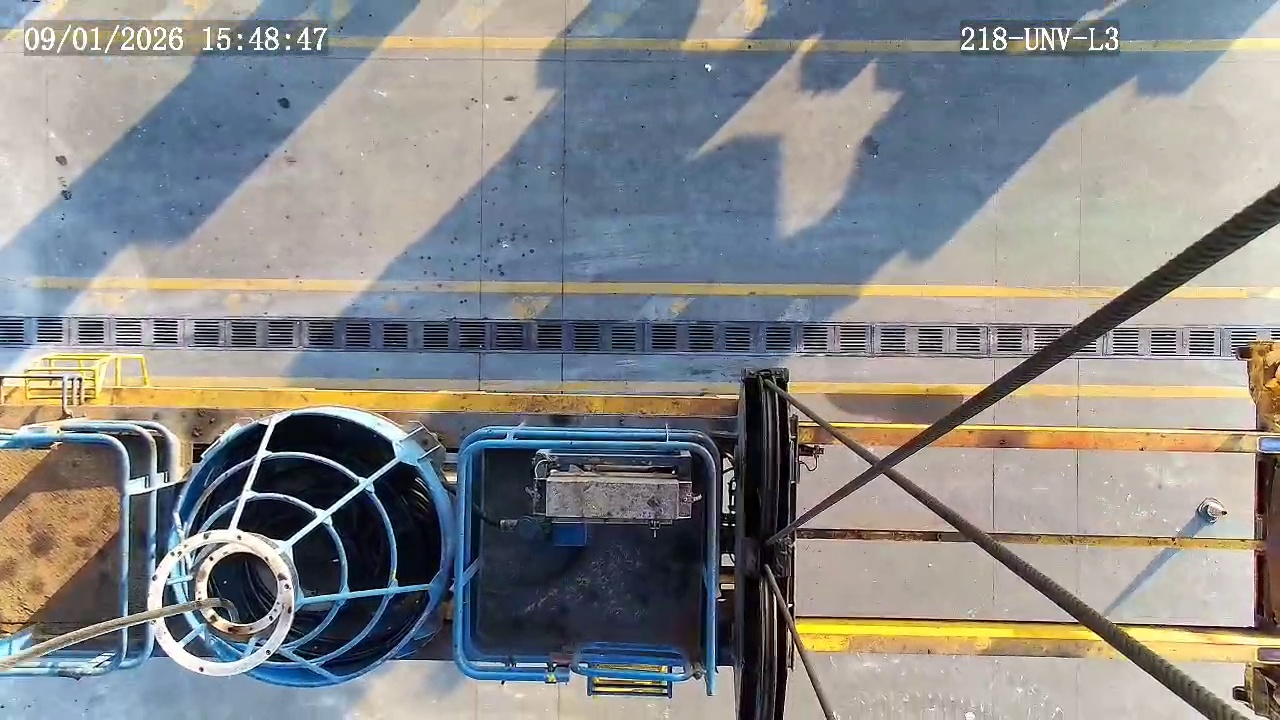right: (166, 412, 446, 688)
